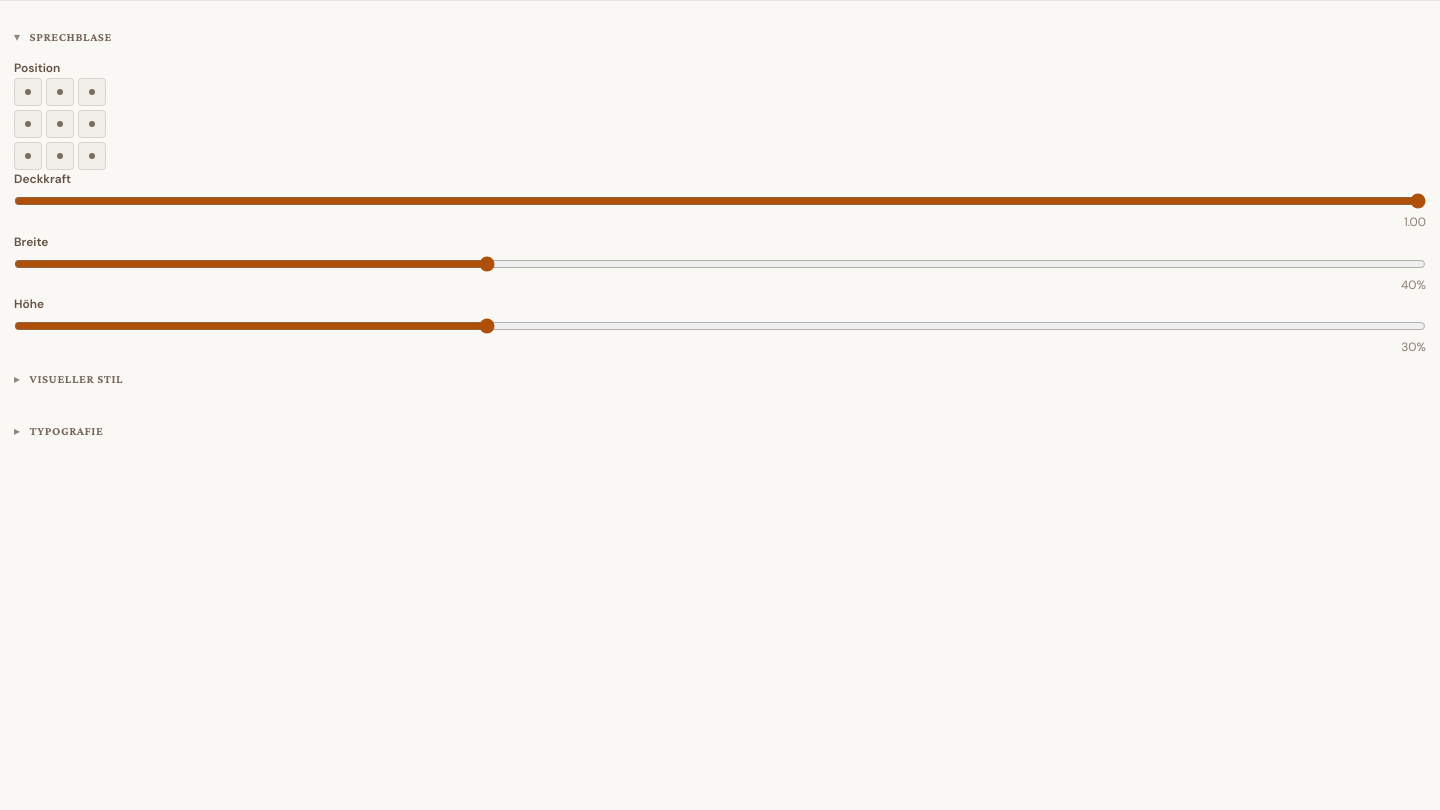
Test: LayoutConfigSpeechBubble - Tier 1 Visual Style (4c-B-2 C2) › padding slider renders inside Tier 1 with 0-32 px range, default 12
Click the button with test id "speech-bubble-tier1-trigger". click: (69, 379)
box: [14,357,123,401]
(page scrolled)
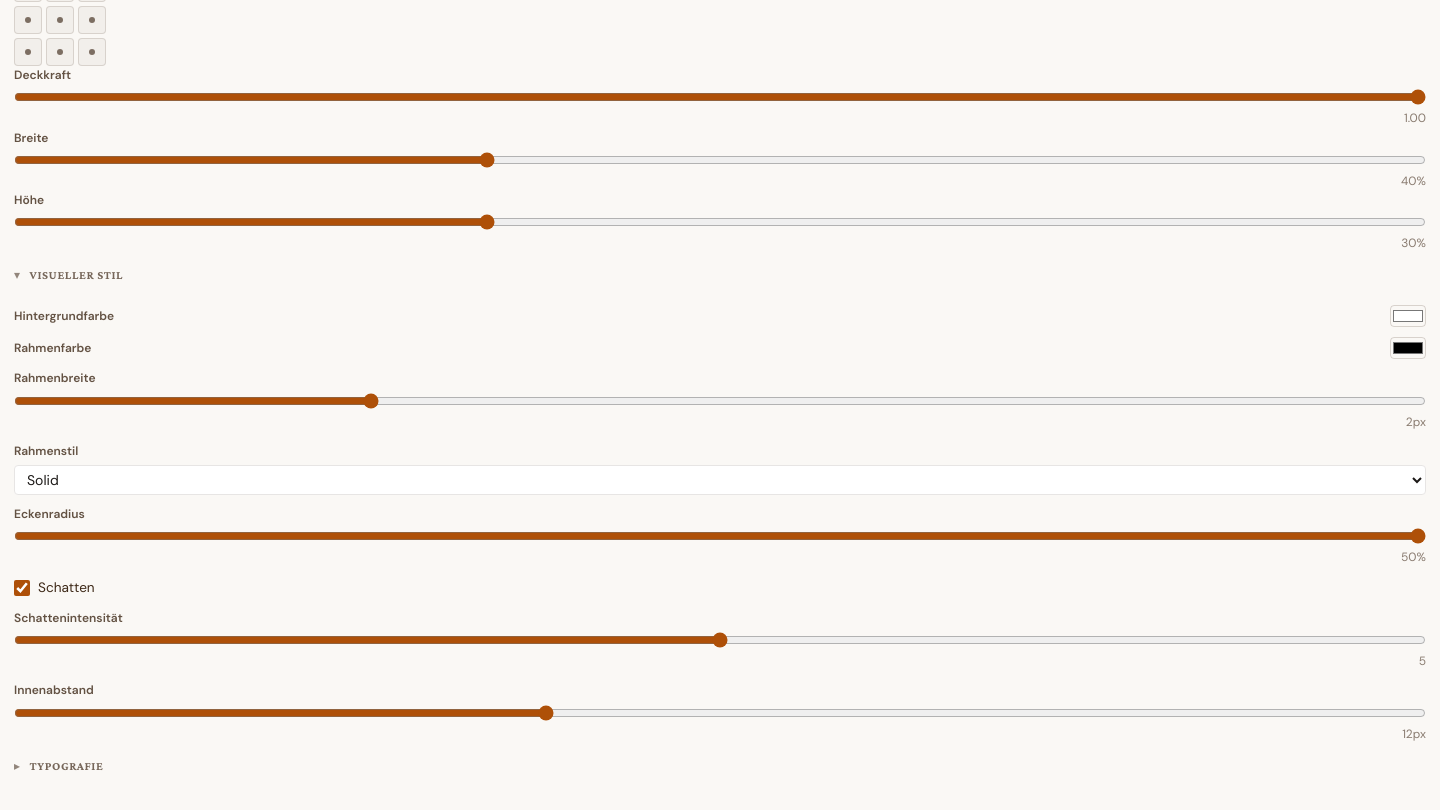
Result: the text with test id "speech-bubble-padding-value" reads "12px" at [1402,725,1426,744]
